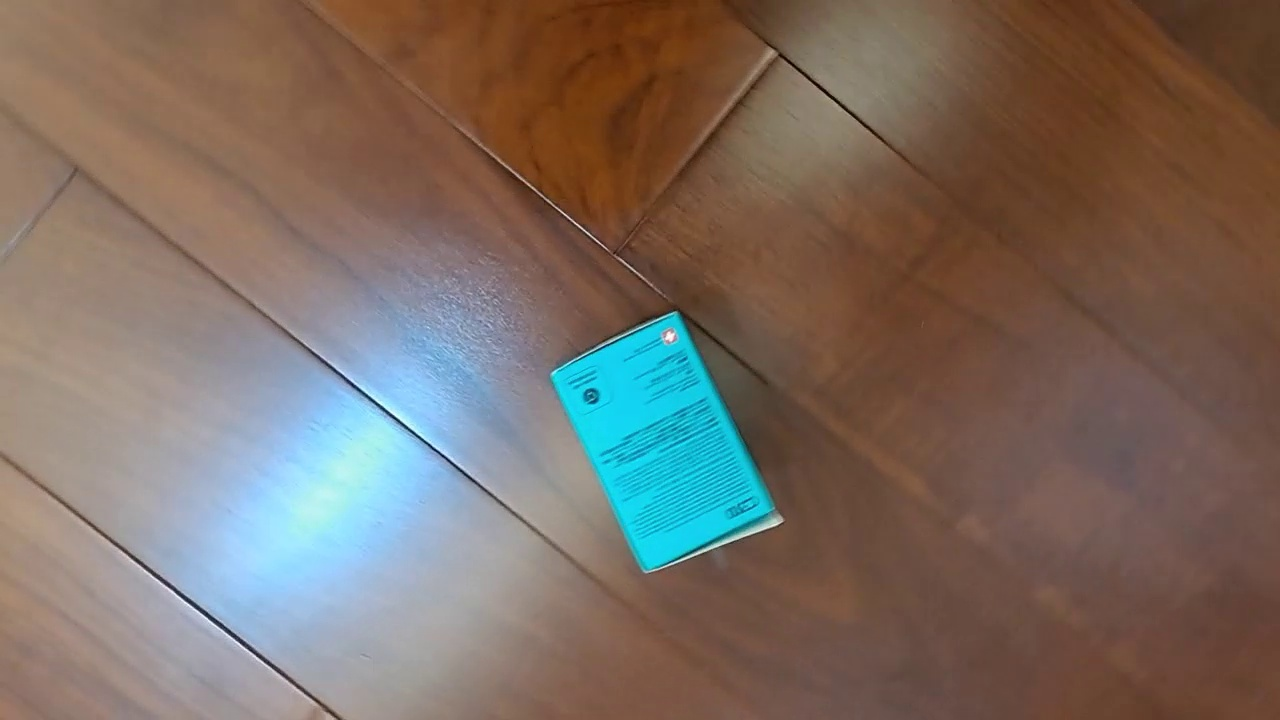webcam: (547, 308, 787, 575)
